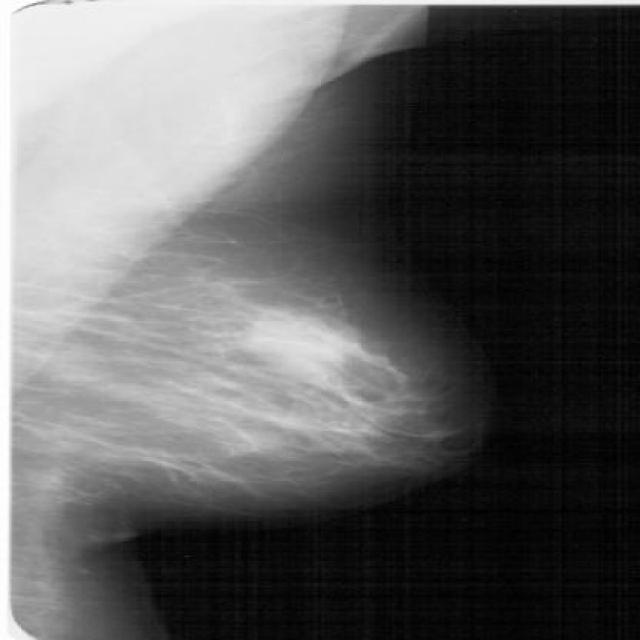tumor: (150, 289, 398, 432)
